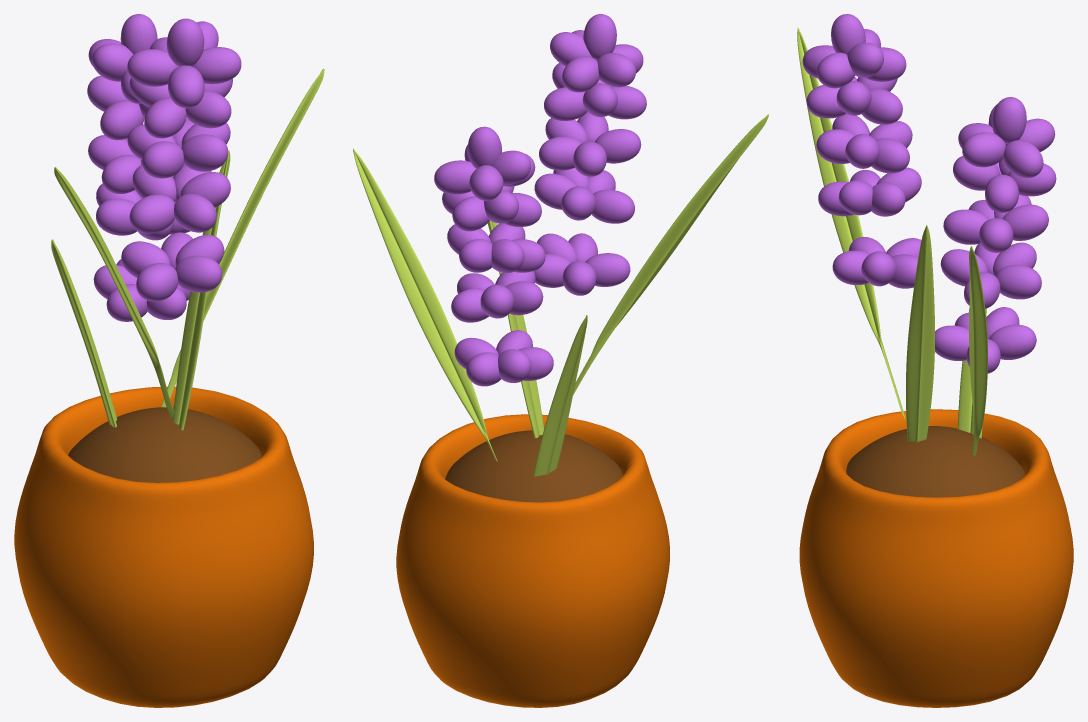
The model's file is Verano 2.fbx.
3 views of the same model, side by side, from view 1: azimuth 30°, elevation 25°; view 2: azimuth 150°, elevation 25°; view 3: azimuth 270°, elevation 25° (orthographic). The views are drawn at different scales.
Parts seen in each view (by area): view 1: Cube.076; view 2: Cube.076; view 3: Cube.076.
Boxes of the visible parts, x1,y1,x2,y2 form: Cube.076: [14, 14, 324, 707]; Cube.076: [353, 14, 768, 707]; Cube.076: [797, 14, 1073, 707].
Size of the model in its own units: 47.44 by 86.99 by 33.53.
